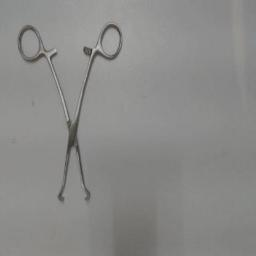Babcock Tissue Forceps: (16, 21, 126, 205)
